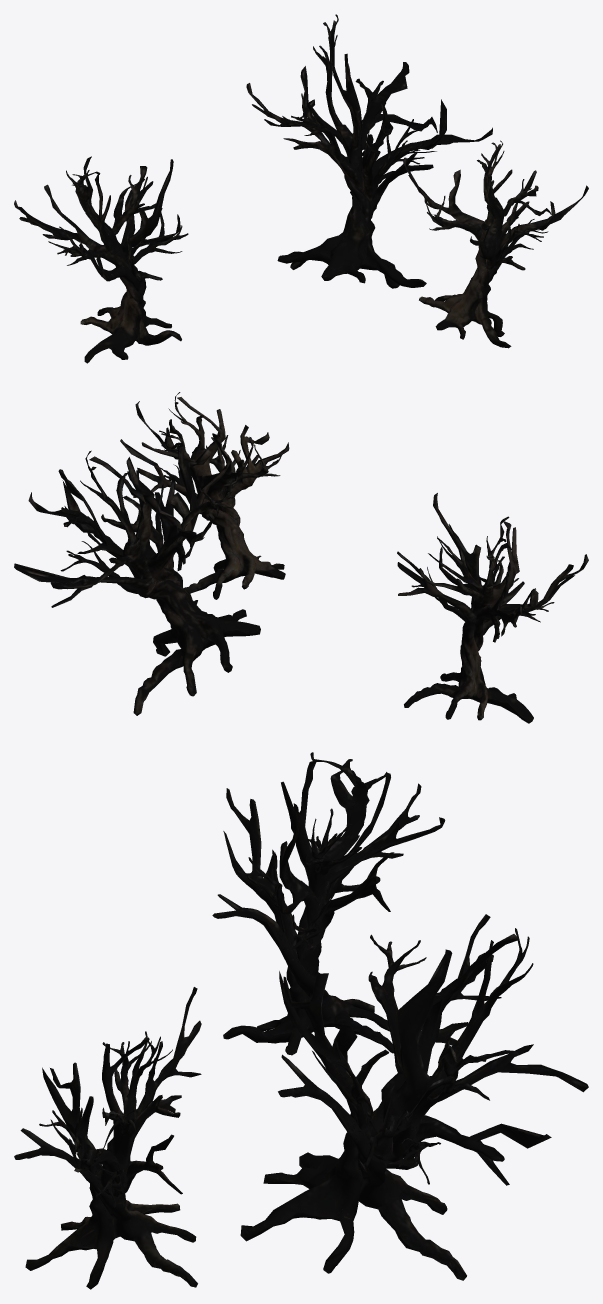
File: trees.glb
3 views of the same model, one above another, from view 1: azimuth 30°, elevation 25°; view 2: azimuth 150°, elevation 25°; view 3: azimuth 270°, elevation 25° (orthographic). The views are drawn at different scales.
Visible parts, largest first — view 1: Trees; view 2: Trees; view 3: Trees.
Part boxes in pixels (x1,y1,x2,y2): Trees: (14,14,588,363); Trees: (14,392,588,723); Trees: (14,752,588,1289).
Bounding box in the file's own units: 18.25 × 9.26 × 13.04.
1 material, 1 textured.
